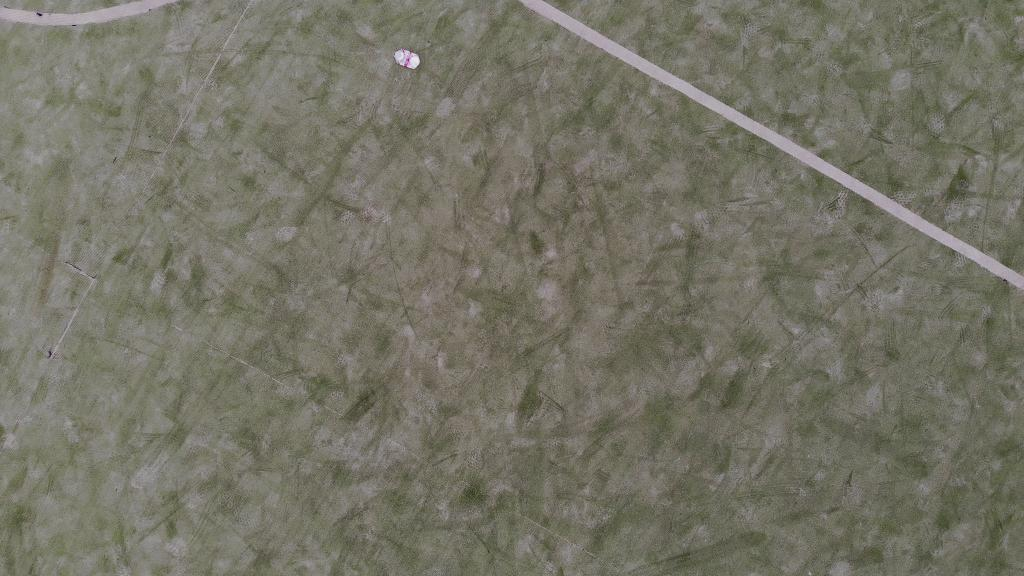garbage: (391, 47, 422, 72)
